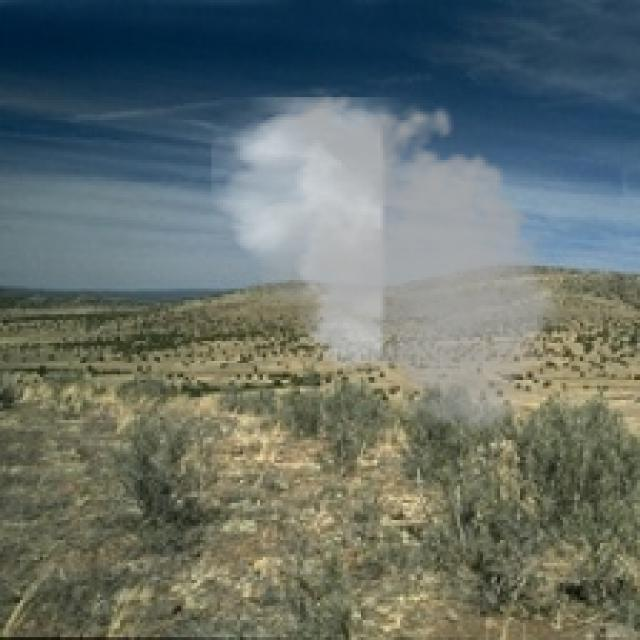Smoke: (212, 82, 574, 438)
